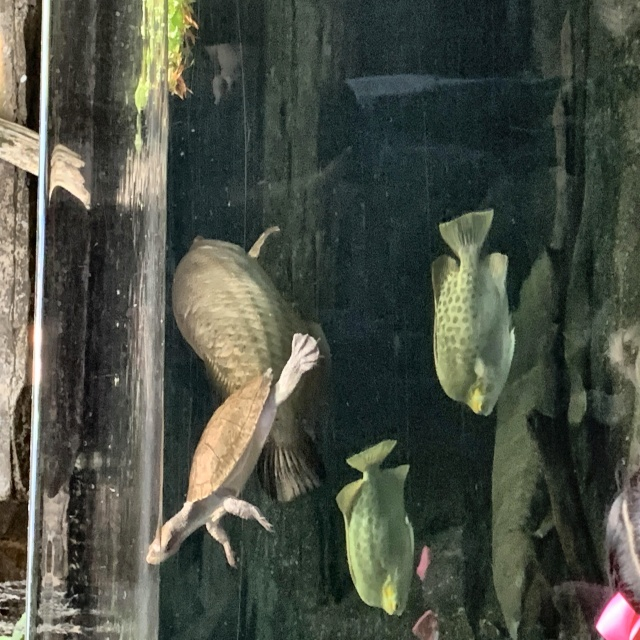fish: (171, 226, 335, 504), (429, 206, 517, 419), (333, 439, 416, 621)
